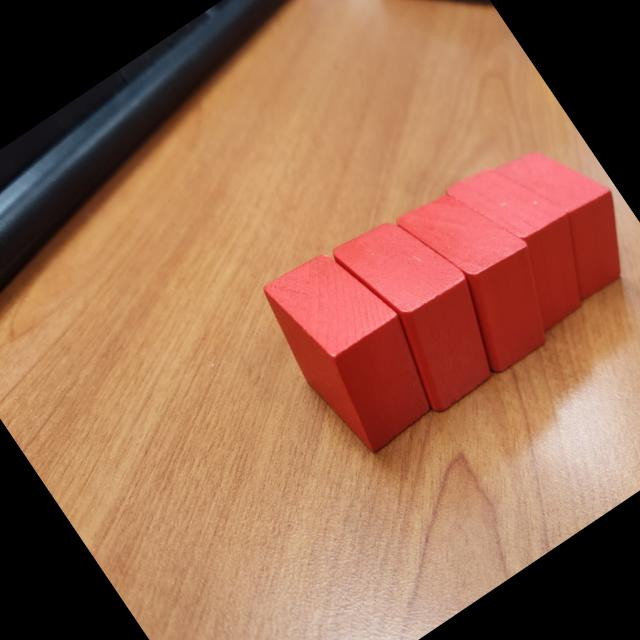red: (243, 228, 458, 466), (327, 195, 523, 417), (389, 165, 579, 379), (443, 140, 617, 336), (493, 123, 640, 302)
